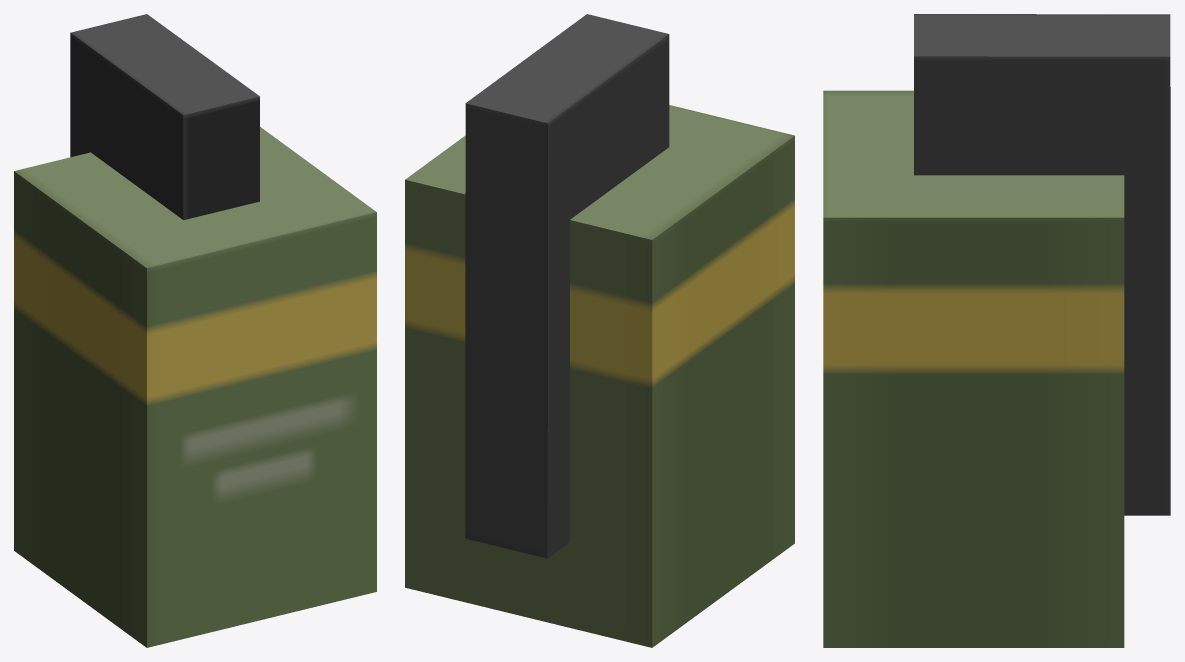
File: SM_Wep_FlashBang_01.fbx
3 renders of one model, left to right at view 1: azimuth 30°, elevation 25°; view 2: azimuth 150°, elevation 25°; view 3: azimuth 270°, elevation 25°, orthographic. The views are drawn at different scales.
Parts seen in each view (by area): view 1: SM_Wep_FlashBang_01; view 2: SM_Wep_FlashBang_01; view 3: SM_Wep_FlashBang_01.
Part boxes in pixels (x1=…): SM_Wep_FlashBang_01: x1=14, y1=14, x2=376, y2=647; SM_Wep_FlashBang_01: x1=405, y1=14, x2=794, y2=647; SM_Wep_FlashBang_01: x1=823, y1=14, x2=1170, y2=647.
Size of the model in its own units: 15.36 by 30.93 by 17.74.
